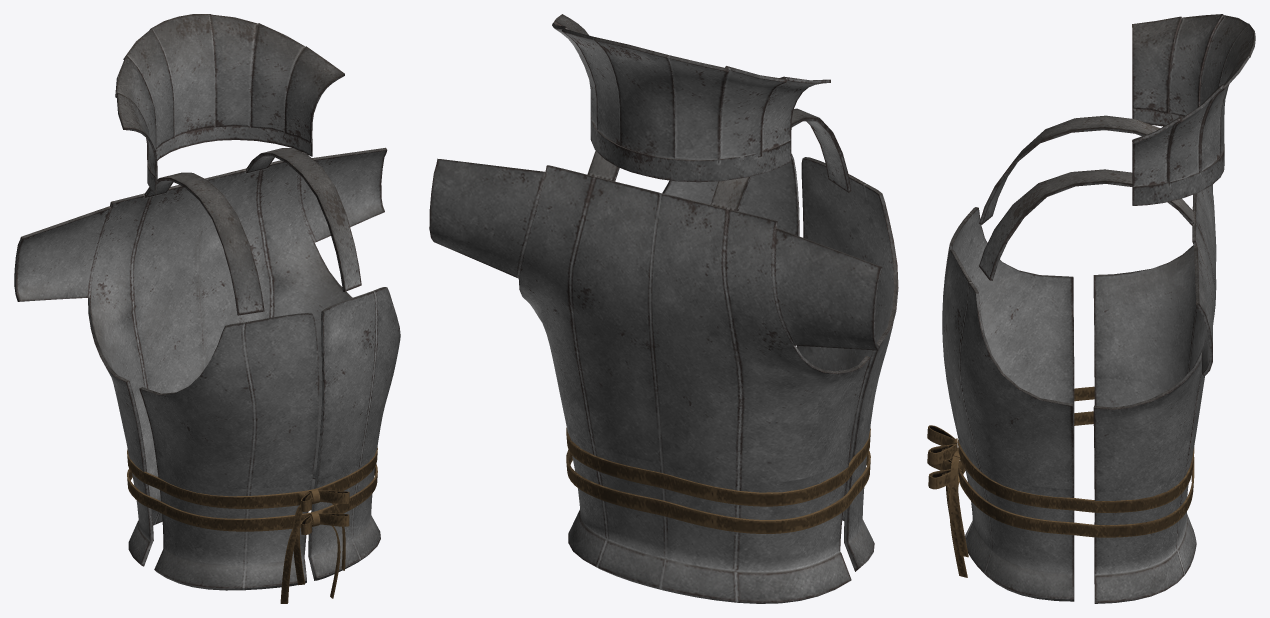
The model's file is armor.glb.
The picture shows the model from 3 angles, left to right: view 1: azimuth 30°, elevation 25°; view 2: azimuth 150°, elevation 25°; view 3: azimuth 270°, elevation 25°; orthographic projection. The views are drawn at different scales.
Parts seen in each view (by area): view 1: 24WA0015_low; view 2: 24WA0015_low; view 3: 24WA0015_low.
Boxes of the visible parts, x1=… form: 24WA0015_low: x1=14, y1=14, x2=400, y2=603; 24WA0015_low: x1=429, y1=14, x2=898, y2=603; 24WA0015_low: x1=927, y1=14, x2=1255, y2=603.
Size of the model in its own units: 0.5394 by 0.6875 by 0.3857.
Materials: 1 (1 with a texture image).
